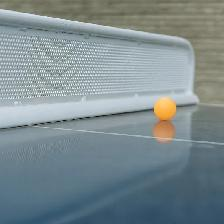YellowBall: (153, 97, 176, 120)
